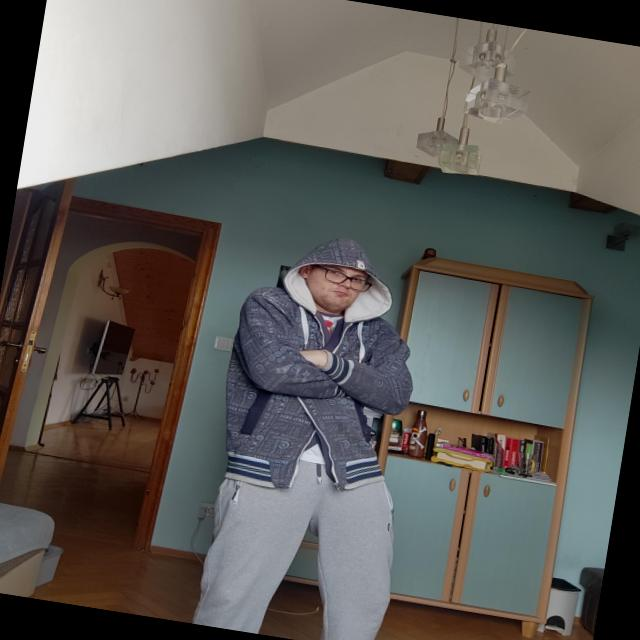pants: (190, 441, 408, 640)
sweater: (210, 222, 434, 509)
